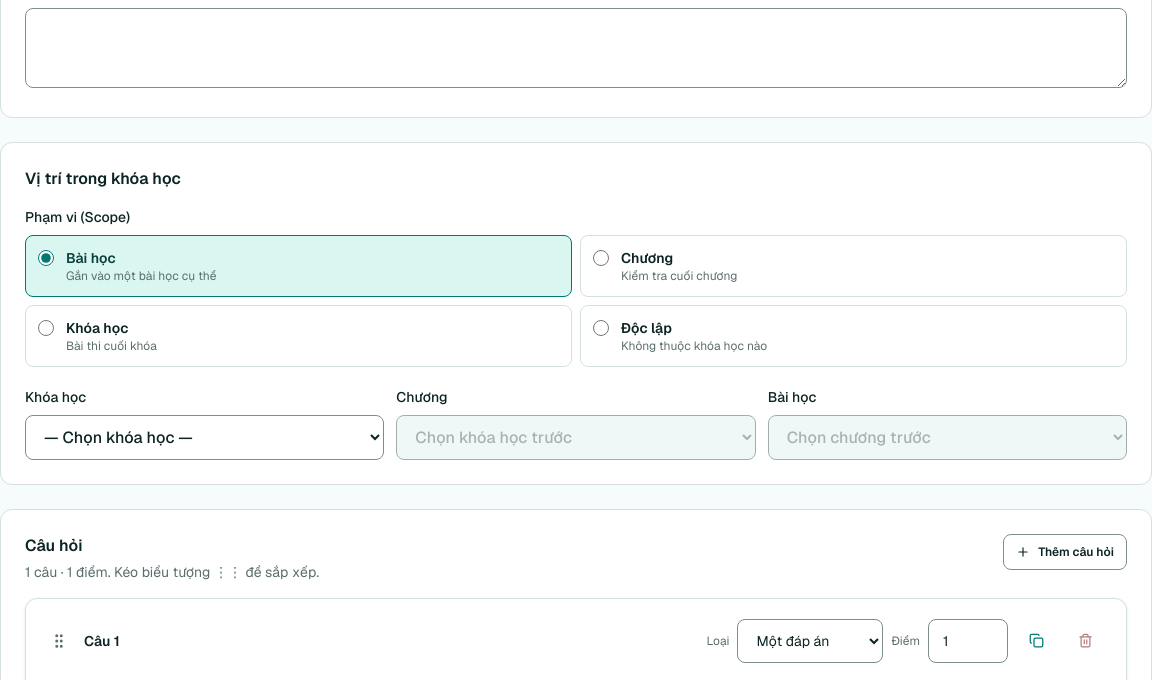
Test: quiz builder form › shows the target cascade that matches each scope
(page scrolled)
Expected: the dropdown labelled "Khóa học" is shown, [25,415,384,460]
Expected: the dropdown labelled "Chương" is disabled, [396,415,756,460]
Click the radio button labelled "Khóa học Bài thi cuối khóa" at (46, 328), box [38,320,54,336]
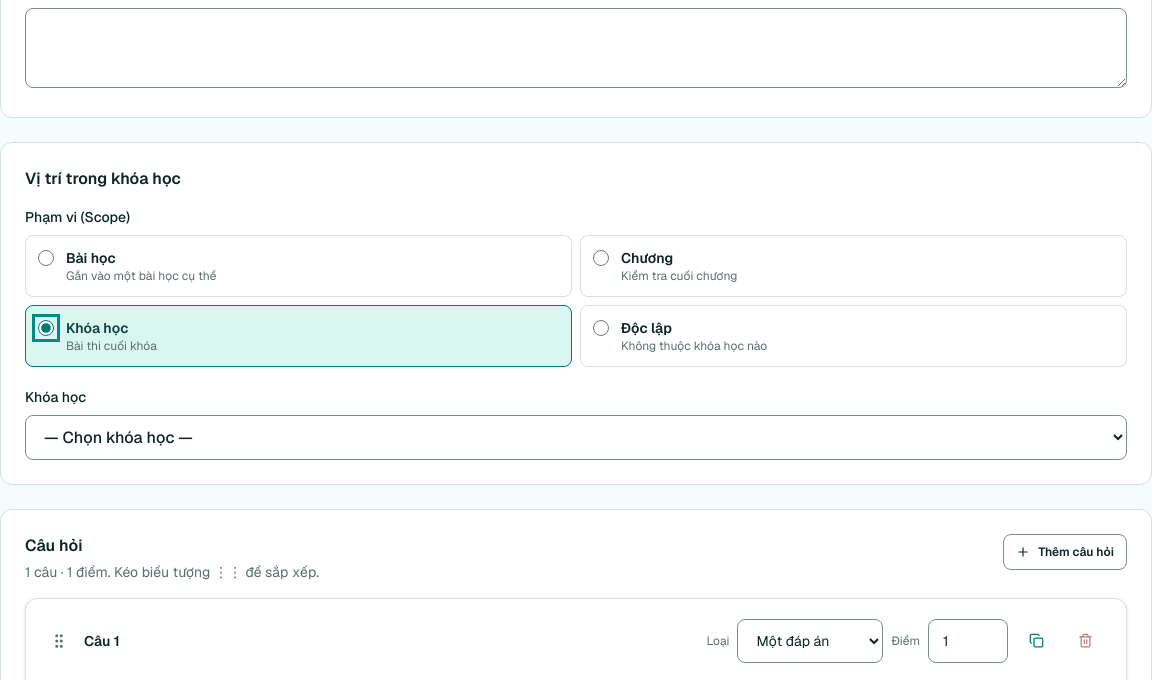
Expected: the dropdown labelled "Khóa học" is shown, [25,415,1127,460]
Click the radio button labelled "Chương Kiểm tra cuối chương" at (601, 258), box [593,250,609,266]
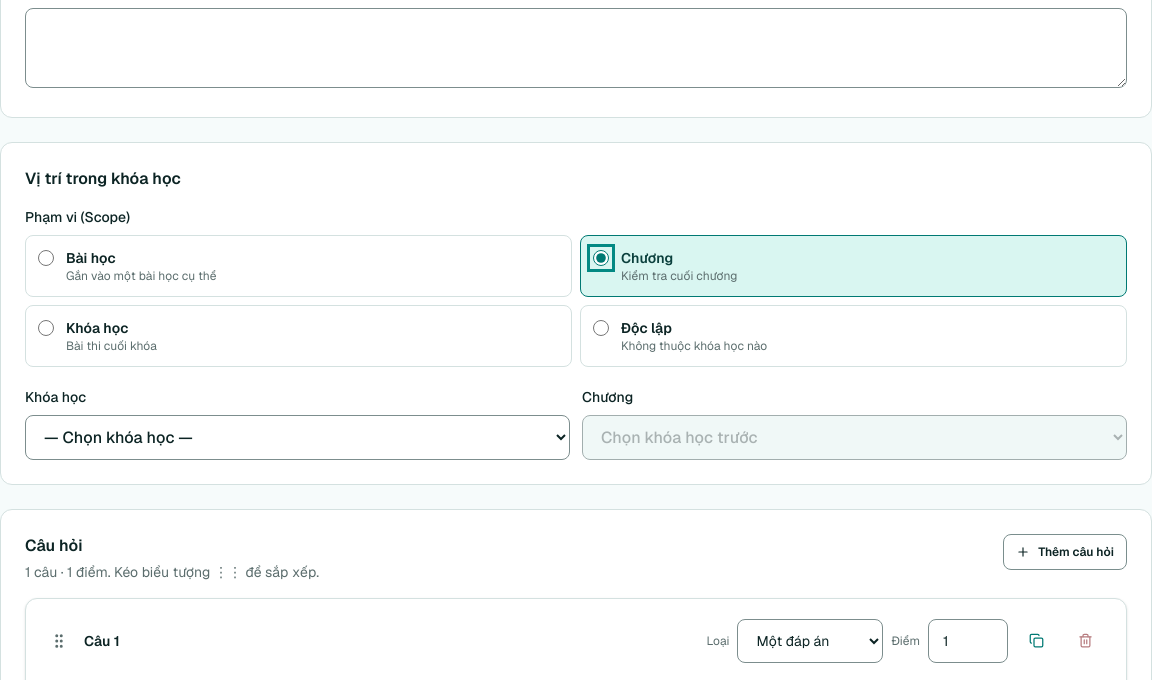
Expected: the dropdown labelled "Chương" is shown, [582,415,1127,460]
Click the radio button labelled "Độc lập Không thuộc khóa học nào" at (601, 328), box [593,320,609,336]
(page scrolled)
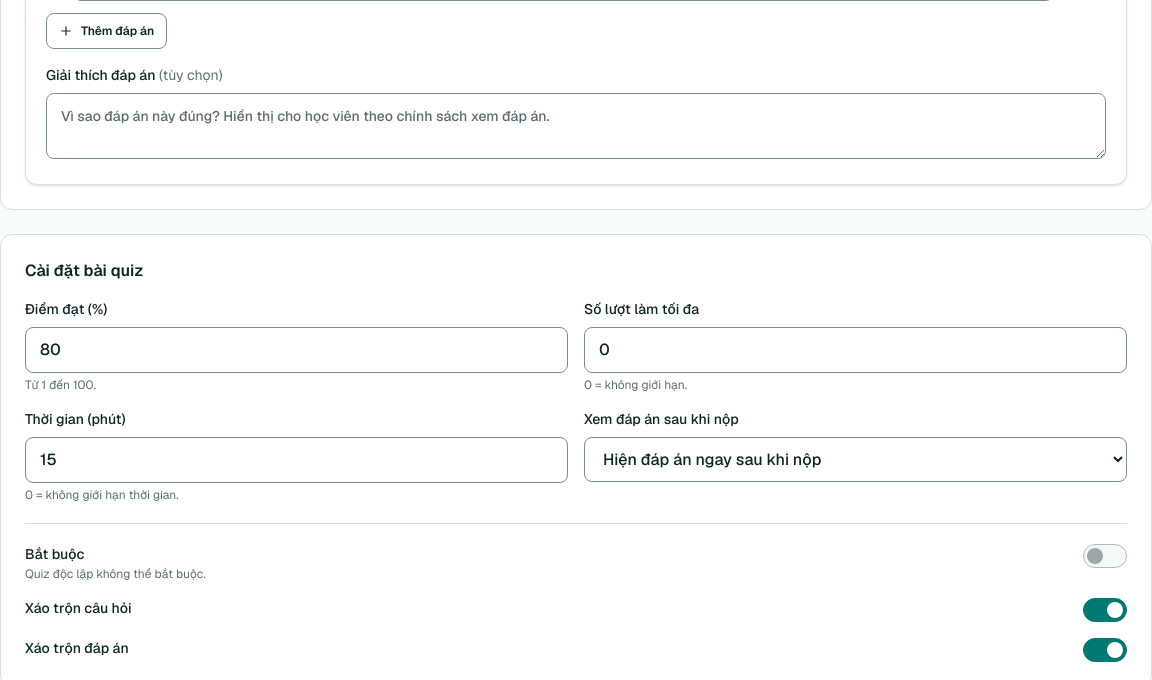
Expected: the dropdown labelled "Khóa học" is not shown
Expected: the switch labelled "Bắt buộc Quiz độc lập không thể bắt buộc." is disabled, [1083,544,1127,568]
